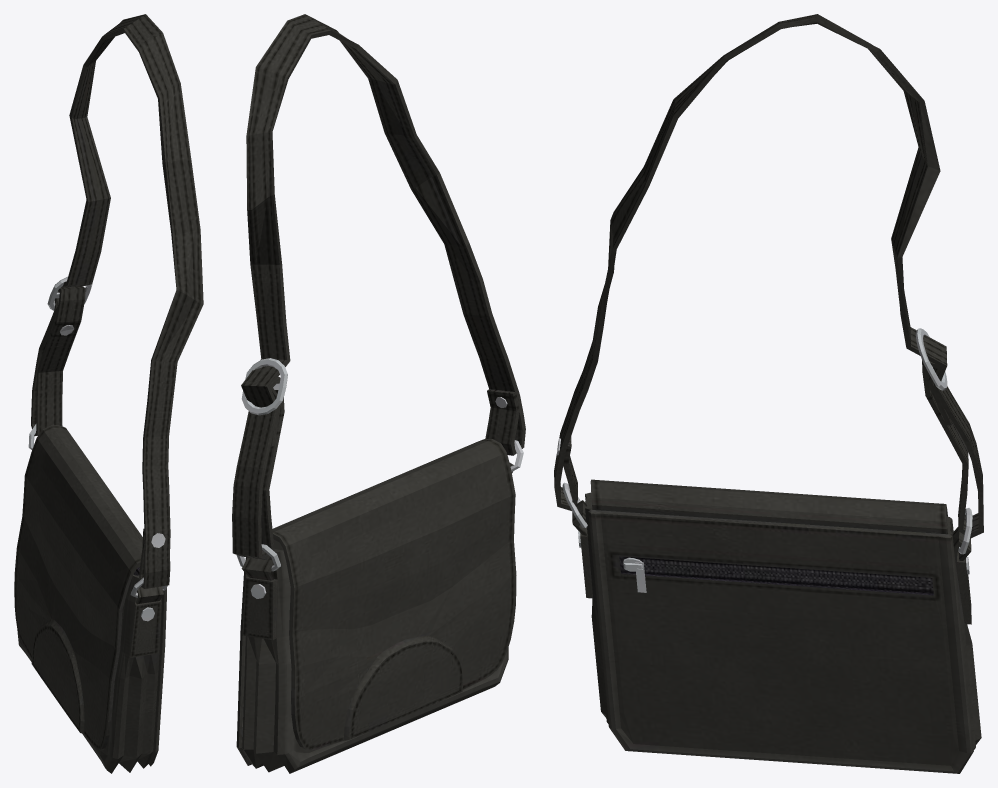
The model's file is mhw_punkduck_handbag01.glb.
3 renders of one model, left to right at view 1: azimuth 30°, elevation 25°; view 2: azimuth 150°, elevation 25°; view 3: azimuth 270°, elevation 25°, orthographic. The views are drawn at different scales.
Visible parts, largest first — view 1: mhw_punkduck_handbag01; view 2: mhw_punkduck_handbag01; view 3: mhw_punkduck_handbag01.
Boxes of the visible parts, x1,y1,x2,y2 form: mhw_punkduck_handbag01: (14,14,203,773); mhw_punkduck_handbag01: (232,14,525,773); mhw_punkduck_handbag01: (554,14,983,773).
Size of the model in its own units: 0.1501 by 0.7314 by 0.3651.
Materials: 1 (1 with a texture image).
